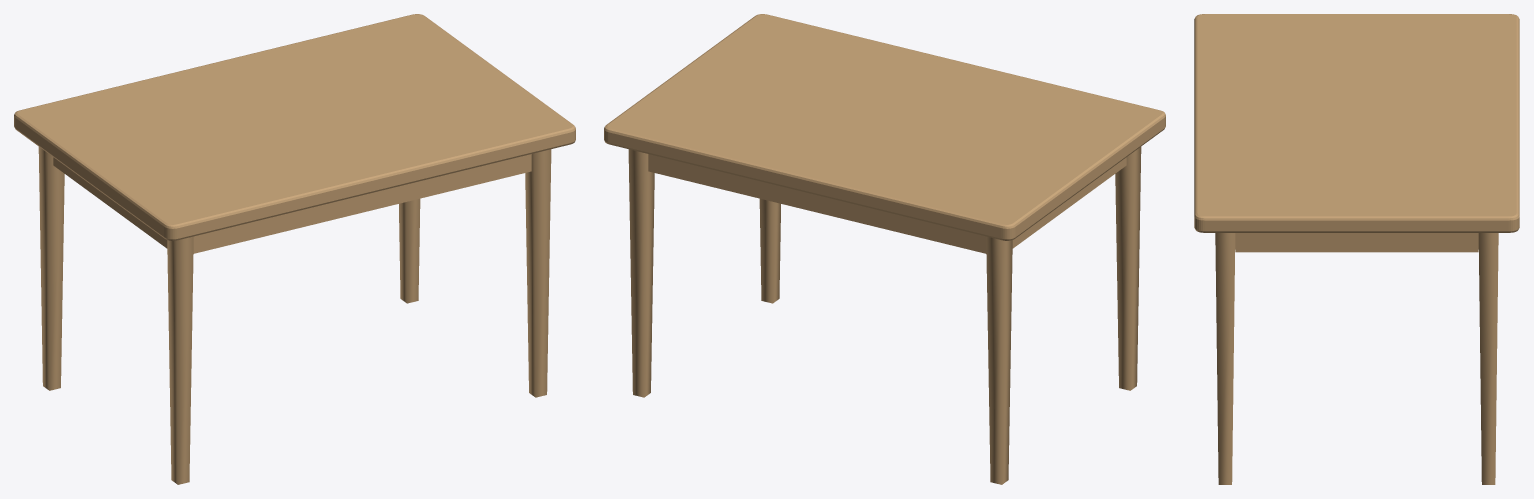
The model's file is sch-022.glb.
The picture shows the model from 3 angles, left to right: view 1: azimuth 30°, elevation 25°; view 2: azimuth 150°, elevation 25°; view 3: azimuth 270°, elevation 25°; orthographic projection. The views are drawn at different scales.
Visible parts, largest first — view 1: table_top, apron_long_2, leg_3, leg_4, leg_1, leg_2, apron_short_1; view 2: table_top, apron_long_1, leg_1, leg_2, leg_3, leg_4, apron_short_1; view 3: table_top, apron_short_2, leg_2, leg_4.
Part boxes in pixels (<box>): table_top: <box>14,14,575,240</box>; apron_long_2: <box>193,154,531,253</box>; leg_3: <box>167,236,193,484</box>; leg_4: <box>525,149,551,397</box>; leg_1: <box>38,147,64,390</box>; leg_2: <box>399,198,420,303</box>; apron_short_1: <box>53,157,167,248</box>; table_top: <box>604,14,1165,240</box>; apron_long_1: <box>648,154,986,253</box>; leg_1: <box>986,236,1012,484</box>; leg_2: <box>628,149,654,397</box>; leg_3: <box>1115,147,1141,390</box>; leg_4: <box>759,198,780,303</box>; apron_short_1: <box>1012,157,1126,248</box>; table_top: <box>1194,14,1519,232</box>; apron_short_2: <box>1235,233,1478,252</box>; leg_2: <box>1478,233,1498,484</box>; leg_4: <box>1215,233,1235,484</box>.
Bounding box in the file's own units: 1.22 × 0.7675 × 0.816.
